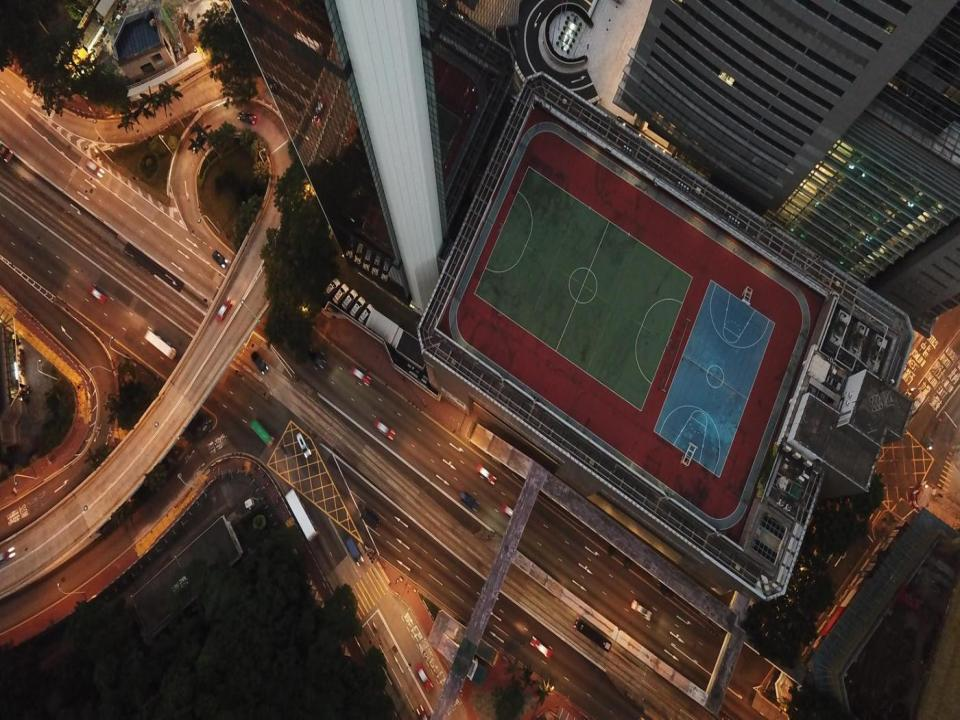bus: (284, 488, 319, 542), (574, 618, 612, 652)
car: (415, 662, 433, 692), (458, 489, 480, 512), (530, 636, 552, 659), (374, 418, 395, 440), (350, 366, 372, 386), (251, 350, 269, 374), (476, 464, 496, 485), (631, 600, 652, 620), (216, 297, 232, 322), (306, 350, 326, 369), (88, 284, 106, 304), (501, 503, 521, 521), (86, 160, 105, 178), (190, 132, 207, 152), (212, 250, 228, 269), (237, 110, 256, 124), (0, 548, 19, 562), (0, 142, 13, 162), (416, 705, 429, 719)
truck: (144, 330, 177, 360), (250, 419, 274, 448)
van: (346, 538, 364, 567), (296, 431, 312, 458), (322, 277, 340, 297), (332, 283, 348, 305), (341, 290, 358, 310), (350, 296, 366, 317), (358, 304, 374, 324)
